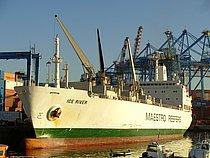Ship: (11, 12, 198, 152)
